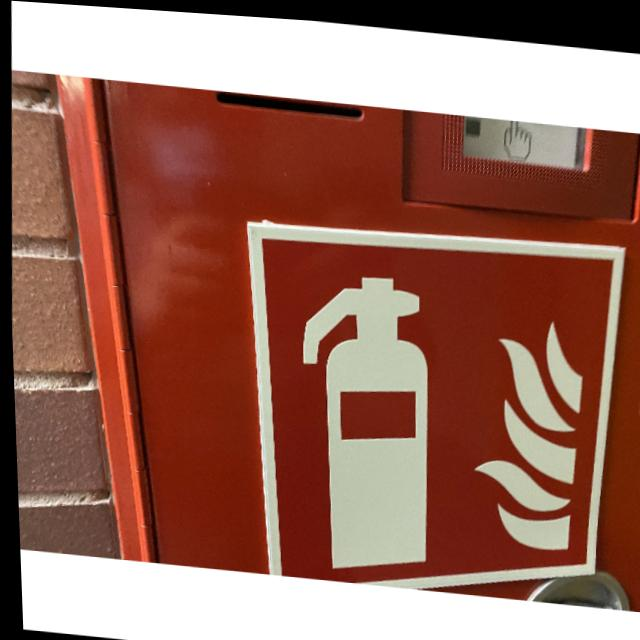fire extinguisher: (233, 203, 632, 602)
